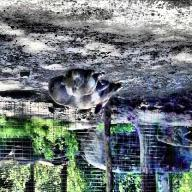boar: (39, 84, 114, 115)
